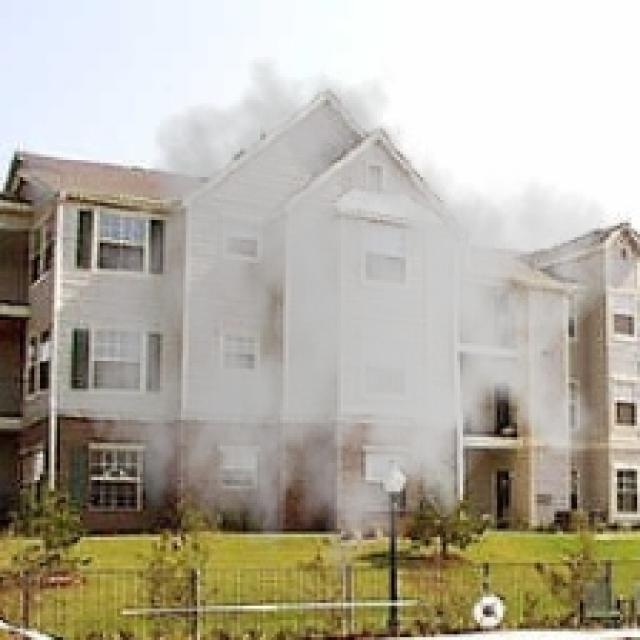smoke: (77, 43, 623, 611)
